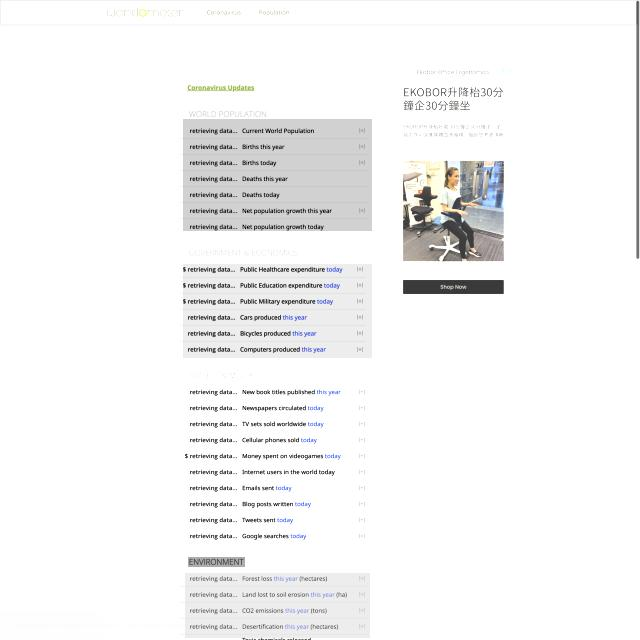ImageView: (393, 65, 515, 309)
QR code: (178, 387, 370, 544), (183, 119, 372, 231), (184, 264, 374, 358), (185, 573, 370, 638)
bag: (0, 0, 638, 24)
breadcrumbs: (187, 247, 300, 259), (186, 369, 254, 382), (189, 108, 269, 119), (188, 557, 245, 567)
date picker: (103, 7, 187, 19)
decoration: (204, 6, 294, 20)
